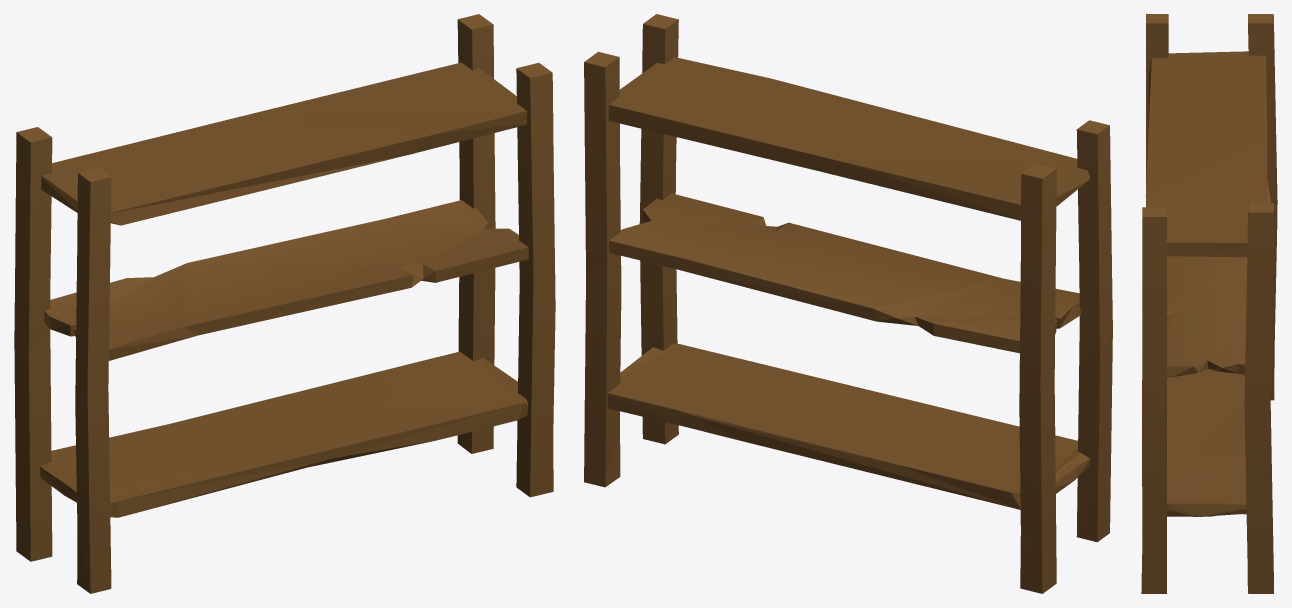
The model's file is Shelving_01.fbx.
The picture shows the model from 3 angles, left to right: view 1: azimuth 30°, elevation 25°; view 2: azimuth 150°, elevation 25°; view 3: azimuth 270°, elevation 25°; orthographic projection. The views are drawn at different scales.
Parts seen in each view (by area): view 1: Shelving_01; view 2: Shelving_01; view 3: Shelving_01.
Boxes of the visible parts, x1=… form: Shelving_01: x1=14, y1=14, x2=555, y2=593; Shelving_01: x1=584, y1=14, x2=1112, y2=593; Shelving_01: x1=1141, y1=14, x2=1277, y2=593.
Bounding box in the file's own units: 112 × 97.14 × 31.41.
